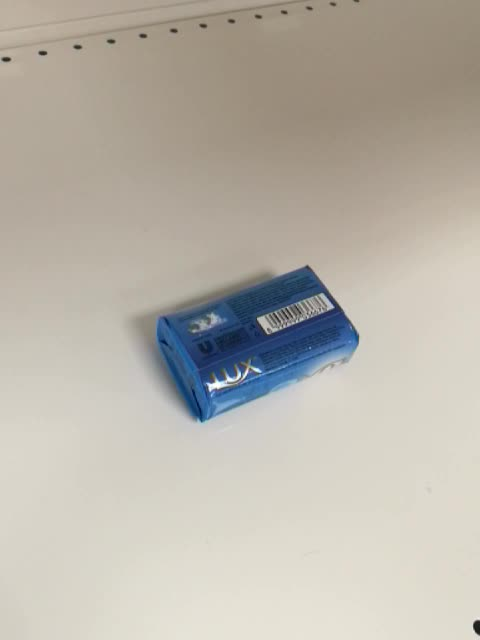soap: (155, 262, 363, 425)
